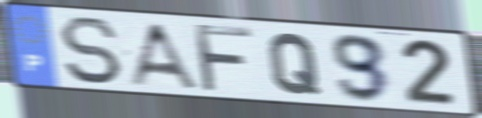2: (402, 38, 461, 109)
9: (328, 33, 395, 105)
A: (125, 21, 203, 91)
F: (191, 21, 256, 95)
Q: (266, 31, 323, 97)
S: (56, 15, 124, 87)
